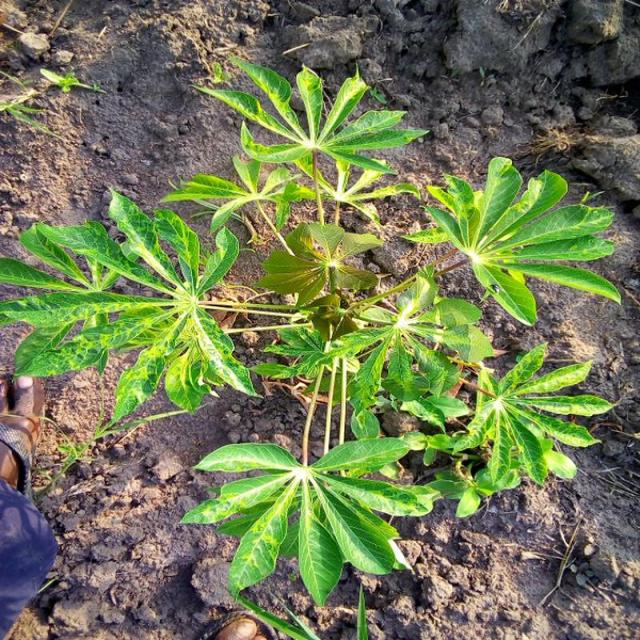cassava leaf: (1, 54, 622, 609), (402, 154, 621, 326)
